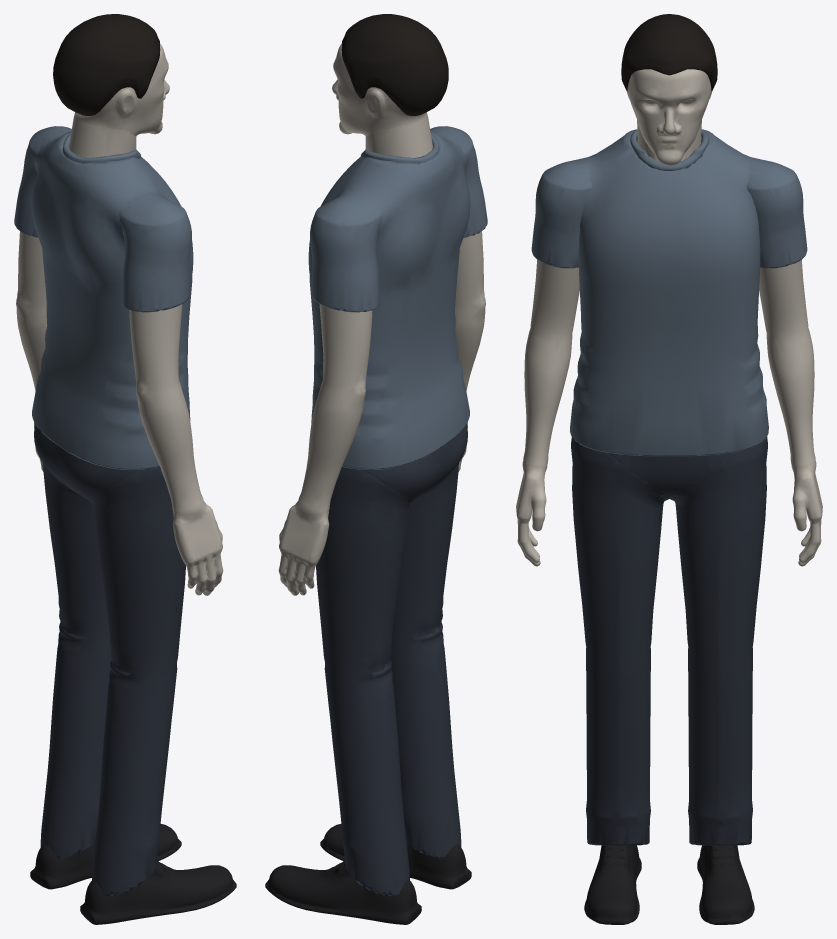
File: person.glb
3 views of the same model, side by side, from view 1: azimuth 30°, elevation 25°; view 2: azimuth 150°, elevation 25°; view 3: azimuth 270°, elevation 25° (orthographic).
Visible parts, largest first — view 1: spine_top, hip_r_bottom, knee_r_bottom, chest_top, knee_l_bottom, head_hair, shoulder_r_top, hip_l_bottom, ankle_r_shoes, elbow_r_skin, shoulder_r_skin, wrist_r_skin (+7 smaller); view 2: spine_top, hip_l_bottom, knee_l_bottom, chest_top, knee_r_bottom, head_hair, shoulder_l_top, hip_r_bottom, ankle_l_shoes, elbow_l_skin, shoulder_l_skin, wrist_l_skin (+7 smaller); view 3: spine_top, chest_top, hip_l_bottom, hip_r_bottom, knee_l_bottom, knee_r_bottom, head_skin, shoulder_l_top, shoulder_r_top, head_hair, elbow_l_skin, elbow_r_skin (+7 smaller).
Boxes of the visible parts, left/top/right/bottom form: spine_top: left=32, top=249, right=192, bottom=470; hip_r_bottom: left=92, top=466, right=185, bottom=675; knee_r_bottom: left=92, top=661, right=177, bottom=896; chest_top: left=31, top=126, right=193, bottom=296; knee_l_bottom: left=40, top=623, right=111, bottom=858; head_hair: left=53, top=14, right=160, bottom=115; shoulder_r_top: left=119, top=193, right=191, bottom=312; hip_l_bottom: left=43, top=463, right=109, bottom=637; ankle_r_shoes: left=80, top=860, right=236, bottom=924; elbow_r_skin: left=136, top=380, right=203, bottom=512; shoulder_r_skin: left=129, top=304, right=182, bottom=390; wrist_r_skin: left=172, top=501, right=223, bottom=595; spine_top: left=309, top=249, right=469, bottom=470; hip_l_bottom: left=316, top=466, right=409, bottom=675; knee_l_bottom: left=324, top=661, right=409, bottom=896; chest_top: left=308, top=126, right=470, bottom=296; knee_r_bottom: left=390, top=623, right=461, bottom=858; head_hair: left=341, top=14, right=448, bottom=115; shoulder_l_top: left=310, top=193, right=382, bottom=312; hip_r_bottom: left=392, top=463, right=458, bottom=637; ankle_l_shoes: left=265, top=860, right=421, bottom=924; elbow_l_skin: left=298, top=380, right=365, bottom=512; shoulder_l_skin: left=319, top=304, right=372, bottom=390; wrist_l_skin: left=278, top=501, right=329, bottom=595; spine_top: left=570, top=268, right=768, bottom=456; chest_top: left=557, top=129, right=781, bottom=291; hip_l_bottom: left=669, top=437, right=767, bottom=662; hip_r_bottom: left=571, top=437, right=669, bottom=662; knee_l_bottom: left=688, top=647, right=752, bottom=845; knee_r_bottom: left=586, top=647, right=650, bottom=845; head_skin: left=626, top=69, right=712, bottom=165; shoulder_l_top: left=746, top=157, right=807, bottom=268; shoulder_r_top: left=531, top=157, right=592, bottom=268; head_hair: left=621, top=14, right=717, bottom=91; elbow_l_skin: left=766, top=328, right=815, bottom=467; elbow_r_skin: left=523, top=328, right=572, bottom=467.
Bounding box in the file's own units: 0.3103 × 1.73 × 0.5561.
